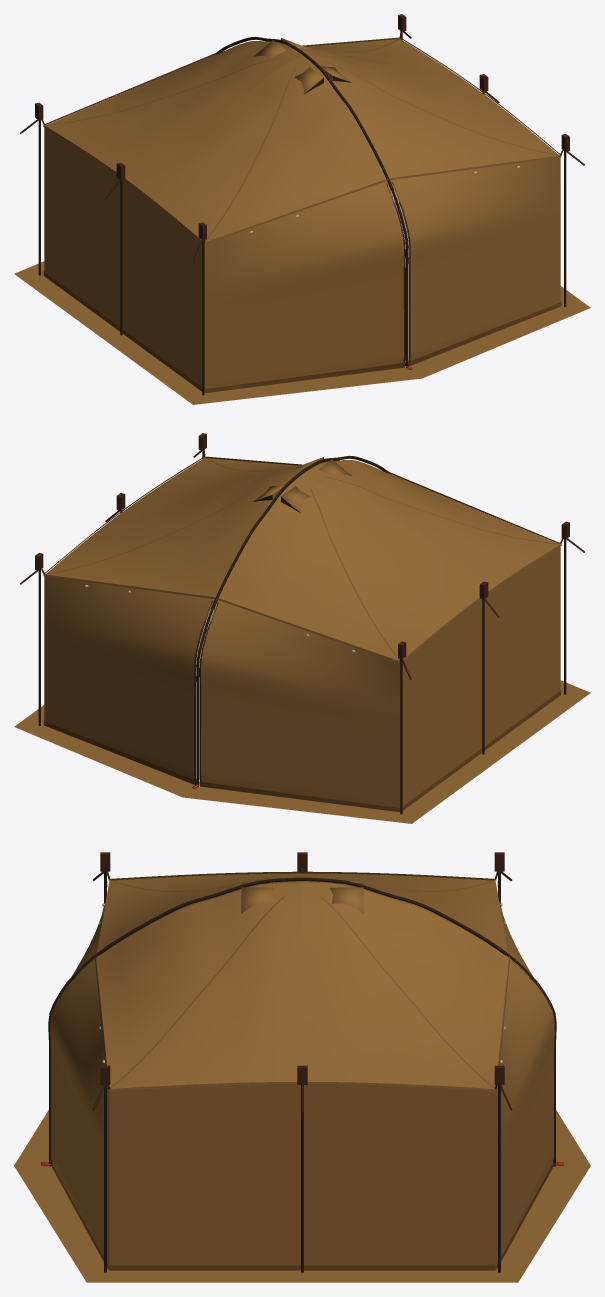
Rendered from minimalworks-jack-shelter.glb.
3 renders of one model, top to bottom at view 1: azimuth 30°, elevation 25°; view 2: azimuth 150°, elevation 25°; view 3: azimuth 270°, elevation 25°, orthographic. The views are drawn at different scales.
Parts seen in each view (by area): view 1: minimalworks-jack-shelter-canvas, minimalworks-jack-shelter-pole, minimalworks-jack-shelter-seam, minimalworks-jack-shelter-hem, minimalworks-jack-shelter-cap, minimalworks-jack-shelter-zip; view 2: minimalworks-jack-shelter-canvas, minimalworks-jack-shelter-pole, minimalworks-jack-shelter-seam, minimalworks-jack-shelter-hem, minimalworks-jack-shelter-cap, minimalworks-jack-shelter-zip; view 3: minimalworks-jack-shelter-canvas, minimalworks-jack-shelter-pole, minimalworks-jack-shelter-seam, minimalworks-jack-shelter-hem, minimalworks-jack-shelter-cap.
Boxes of the visible parts, box(x1,y1,x2,y2) form: minimalworks-jack-shelter-canvas: box(14, 38, 590, 404); minimalworks-jack-shelter-pole: box(38, 32, 566, 395); minimalworks-jack-shelter-seam: box(43, 37, 561, 243); minimalworks-jack-shelter-hem: box(43, 271, 561, 393); minimalworks-jack-shelter-cap: box(20, 14, 584, 260); minimalworks-jack-shelter-zip: box(386, 182, 410, 365); minimalworks-jack-shelter-canvas: box(14, 457, 590, 823); minimalworks-jack-shelter-pole: box(38, 451, 566, 814); minimalworks-jack-shelter-seam: box(43, 456, 561, 662); minimalworks-jack-shelter-hem: box(43, 690, 561, 812); minimalworks-jack-shelter-cap: box(20, 433, 584, 679); minimalworks-jack-shelter-zip: box(194, 601, 218, 784); minimalworks-jack-shelter-canvas: box(14, 873, 590, 1282); minimalworks-jack-shelter-pole: box(48, 871, 556, 1272); minimalworks-jack-shelter-seam: box(95, 871, 509, 1091); minimalworks-jack-shelter-hem: box(50, 1161, 554, 1270); minimalworks-jack-shelter-cap: box(92, 852, 512, 1112).
Size of the model in its own units: 3.3 by 1.9 by 3.44.
